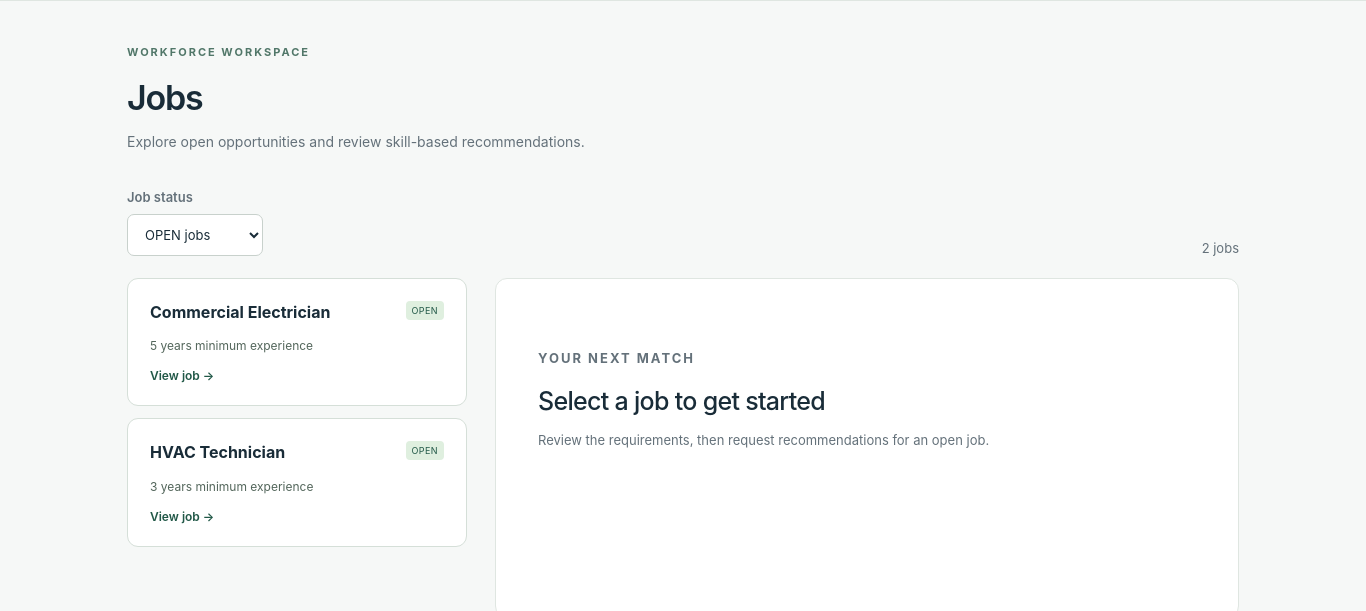
Test: duplicate requests are prevented while pending
This screenshot has width=1366, height=611.
Click the button "Commercial Electrician".
click(297, 342)  # box left=127, top=278, right=467, bottom=406
(page scrolled)
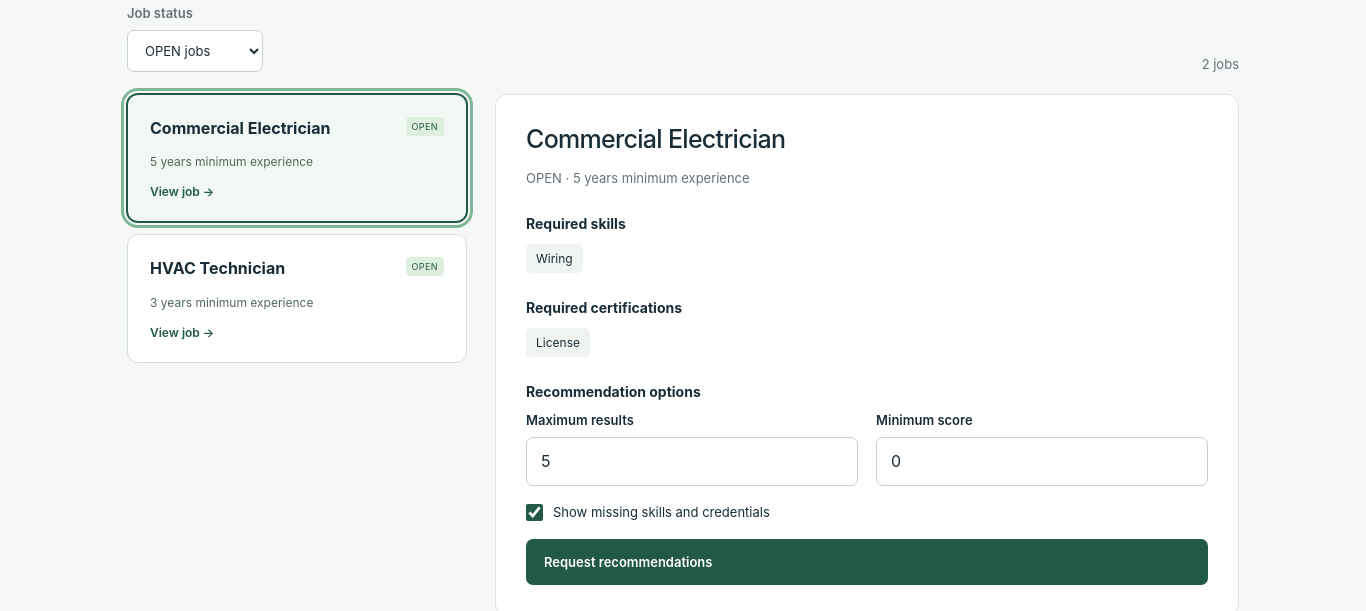
Click the button "Request recommendations".
click(628, 562)  # box left=526, top=539, right=1208, bottom=585
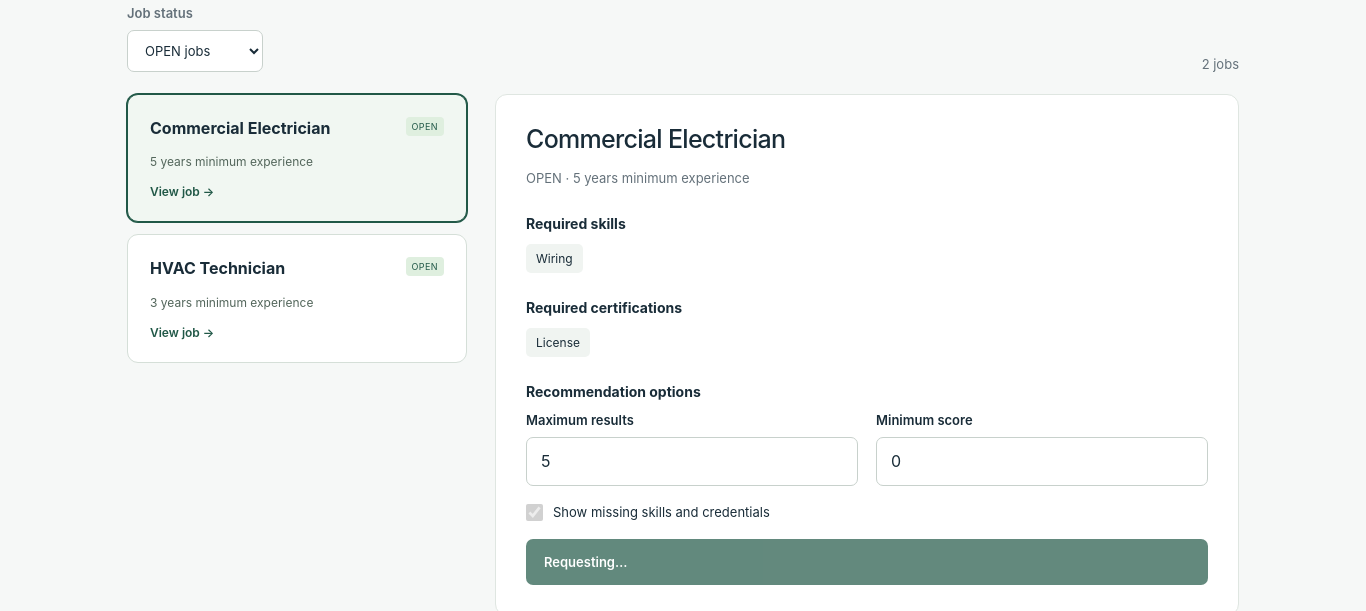
Expected: the button "Requesting…" is disabled
Click the button "Requesting…".
click(586, 562)  # box left=526, top=539, right=1208, bottom=585
(page scrolled)
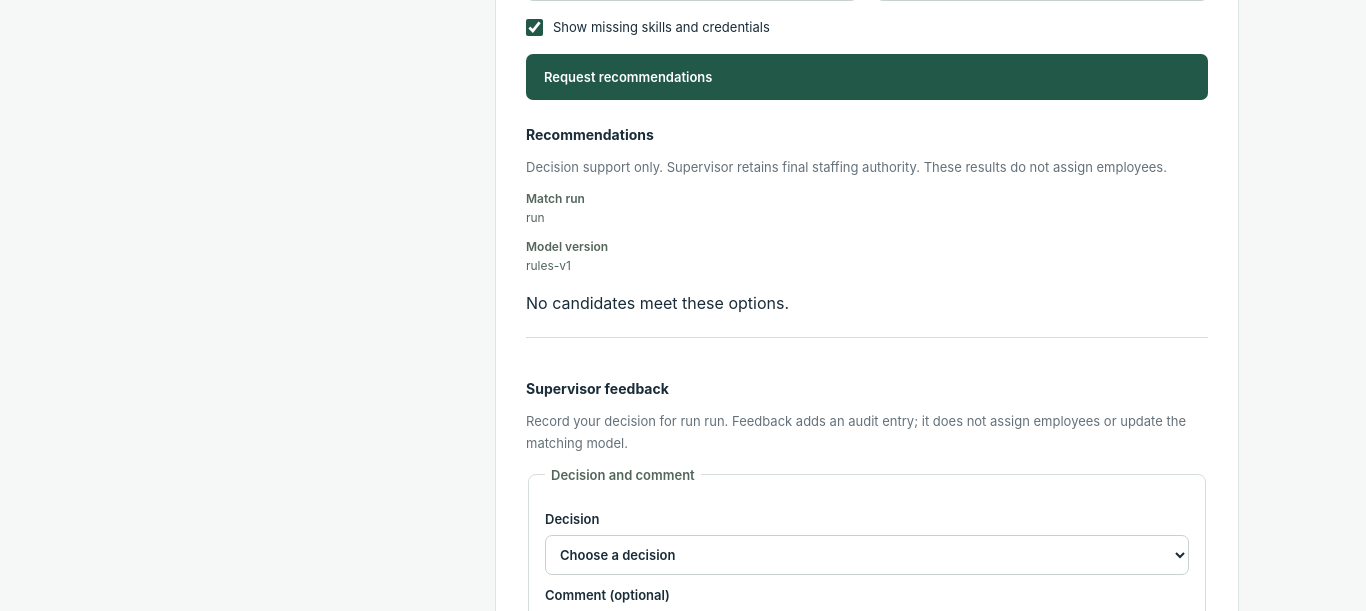
Expected: the text "No candidates meet these options." is shown, left=526, top=293, right=789, bottom=313
